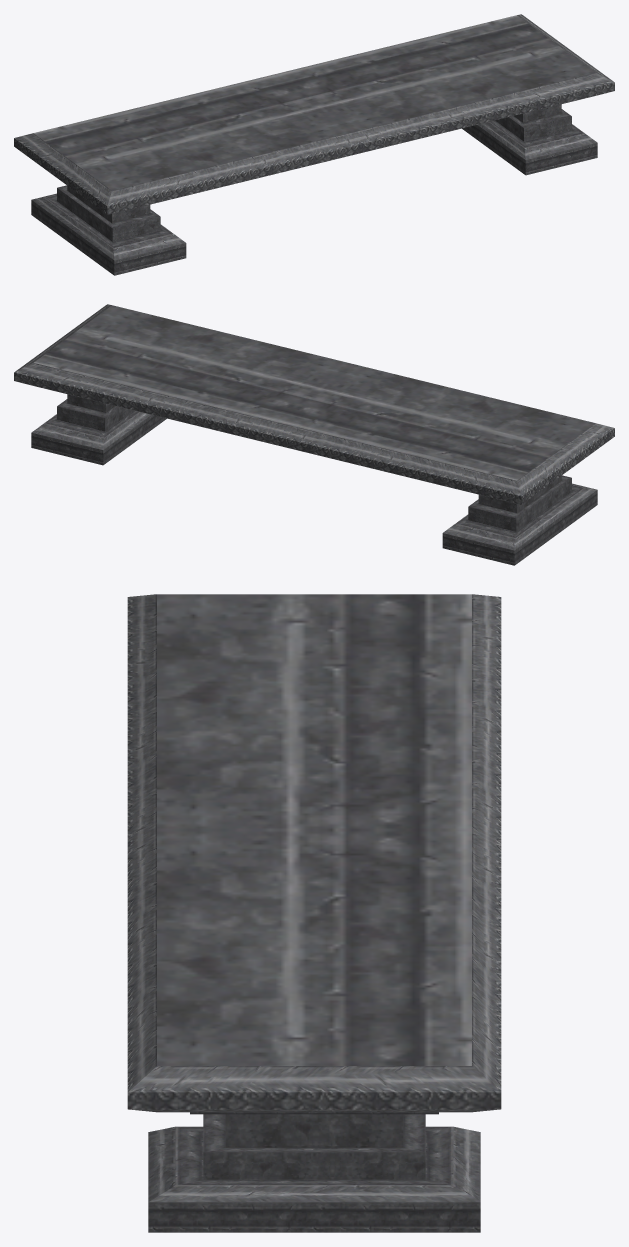
The model's file is bench-01.fbx.
The picture shows the model from 3 angles, top to bottom: view 1: azimuth 30°, elevation 25°; view 2: azimuth 150°, elevation 25°; view 3: azimuth 270°, elevation 25°; orthographic projection. The views are drawn at different scales.
Parts seen in each view (by area): view 1: Cube.265; view 2: Cube.265; view 3: Cube.265.
Part boxes in pixels (<box>): Cube.265: <box>14,14,614,275</box>; Cube.265: <box>14,304,614,565</box>; Cube.265: <box>127,594,501,1232</box>.
Bounding box in the file's own units: 2.47 × 0.3877 × 0.7864.
